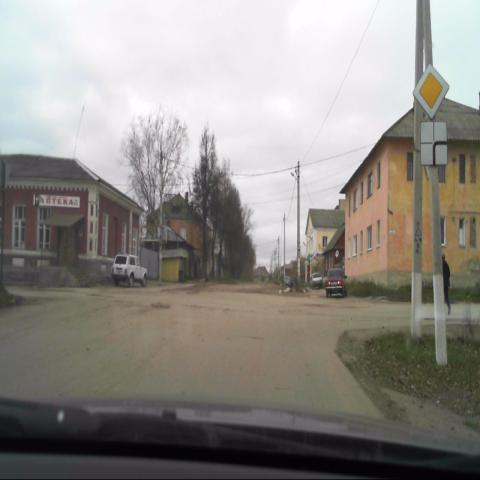8_13: (420, 123, 448, 167)
